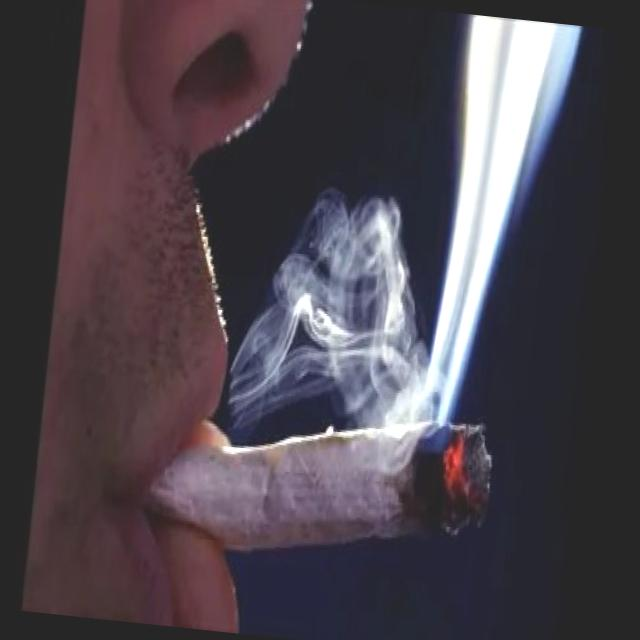smoke: (142, 377, 506, 588)
